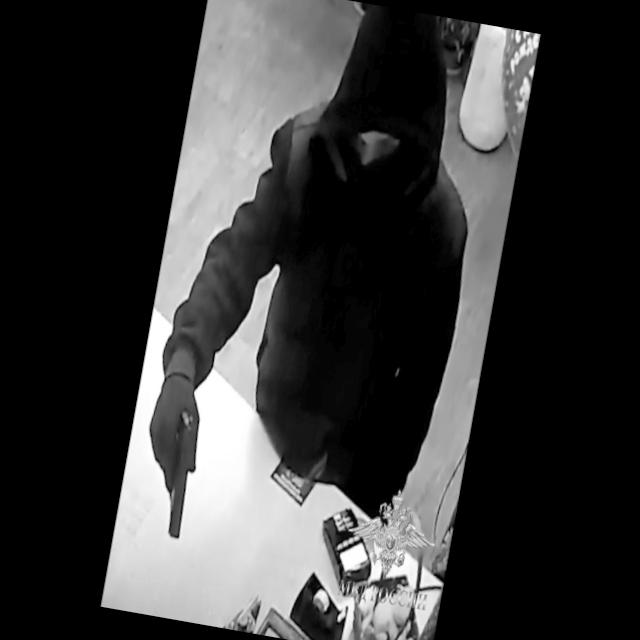gun: (132, 359, 215, 540)
person with a gun: (138, 0, 507, 583)
